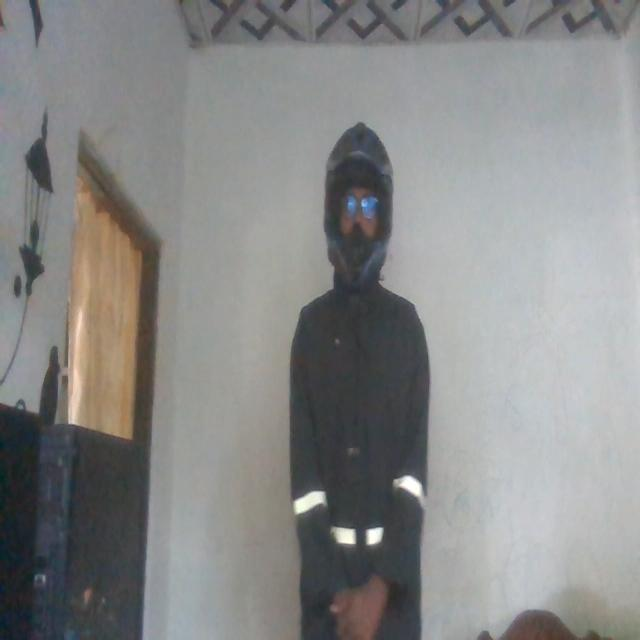Helmet_Wearer: (319, 128, 393, 288)
Jacket_Wearer: (283, 273, 437, 640)
Person: (286, 124, 432, 640)
